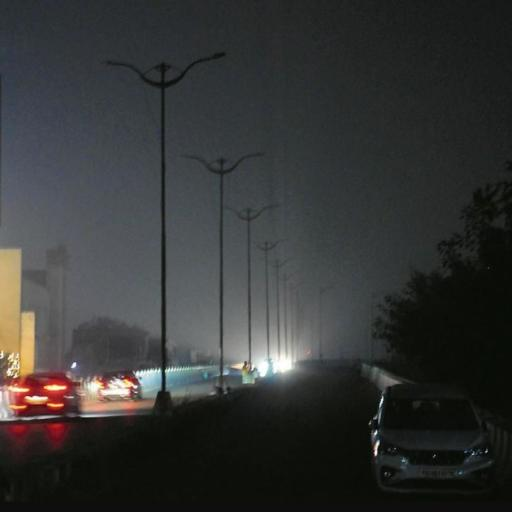off street light: (100, 40, 217, 346), (186, 133, 263, 328)
